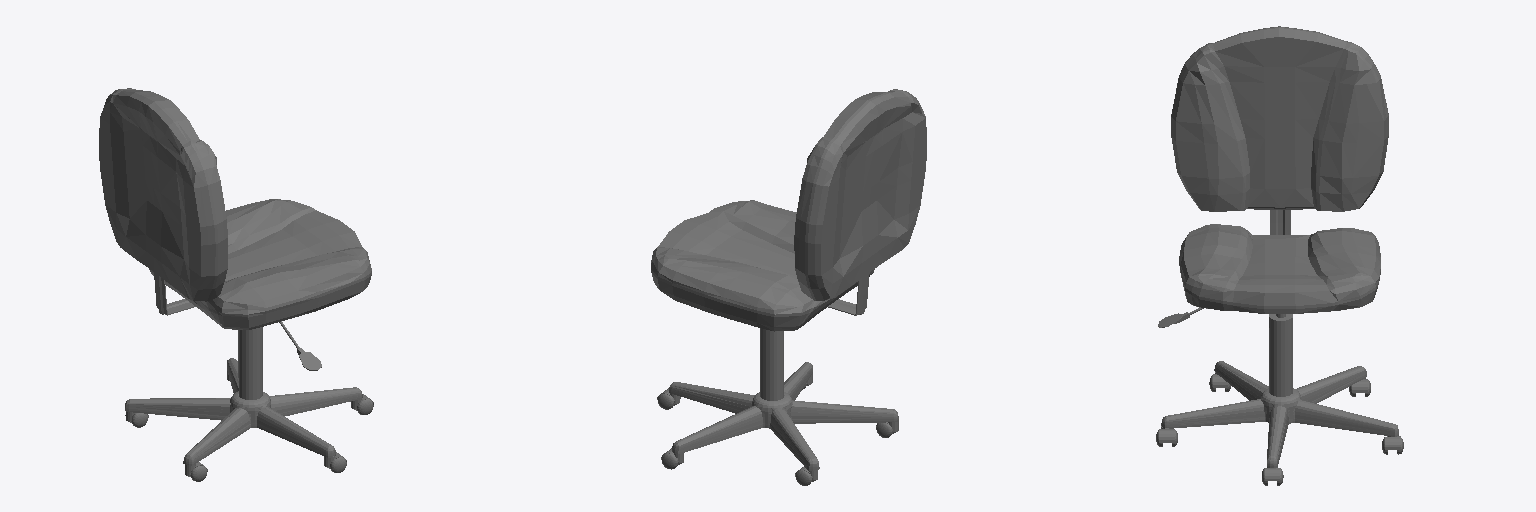
Rendered from lowpoly_chair_Sam_Chernick.obj.
The picture shows the model from 3 angles: view 1: azimuth 30°, elevation 25°; view 2: azimuth 150°, elevation 25°; view 3: azimuth 270°, elevation 25°; orthographic projection.
Visible parts, largest first — view 1: polySurface120; view 2: polySurface120; view 3: polySurface120.
Part boxes in pixels (x1,y1,x2,y2): polySurface120: (99,88,373,481); polySurface120: (651,89,926,485); polySurface120: (1156,26,1403,485).
Bounding box in the file's own units: 12.26 × 18.98 × 11.87.